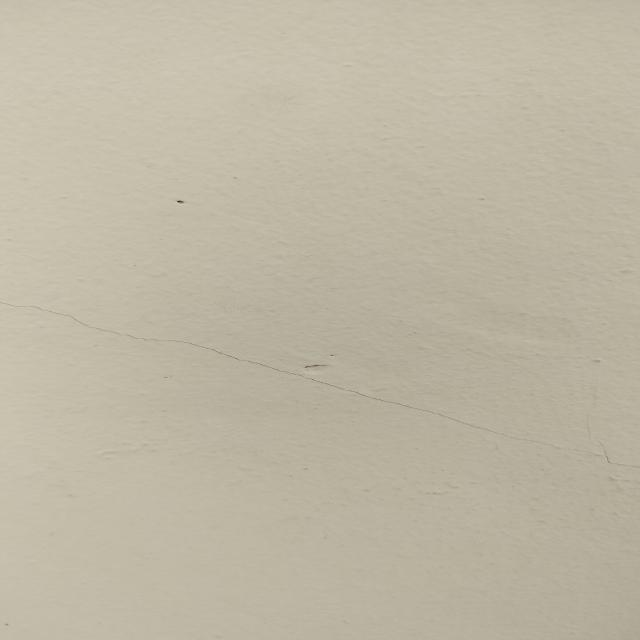Crack: (2, 299, 640, 471)
